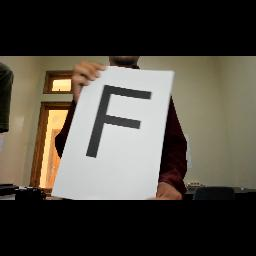f: (84, 76, 154, 172)
